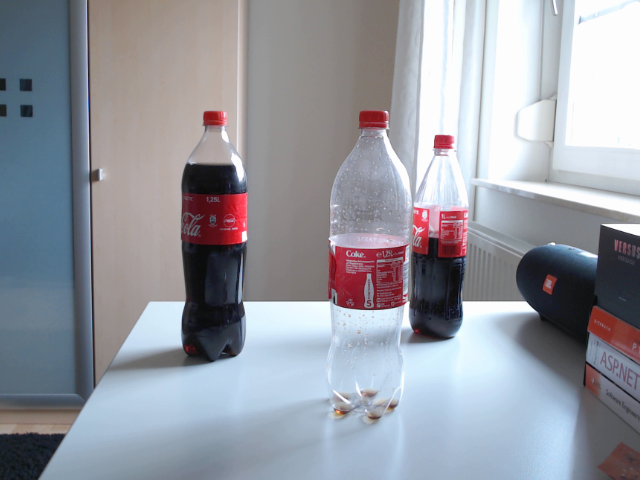bottle: (330, 109, 411, 421), (180, 110, 248, 363), (408, 134, 469, 339)
